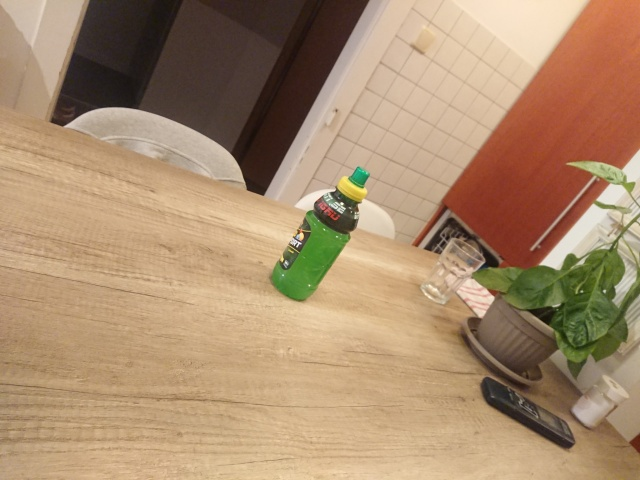Vindi Iso Sport Lemon-Grapefruit 500mL: (267, 164, 372, 303)
